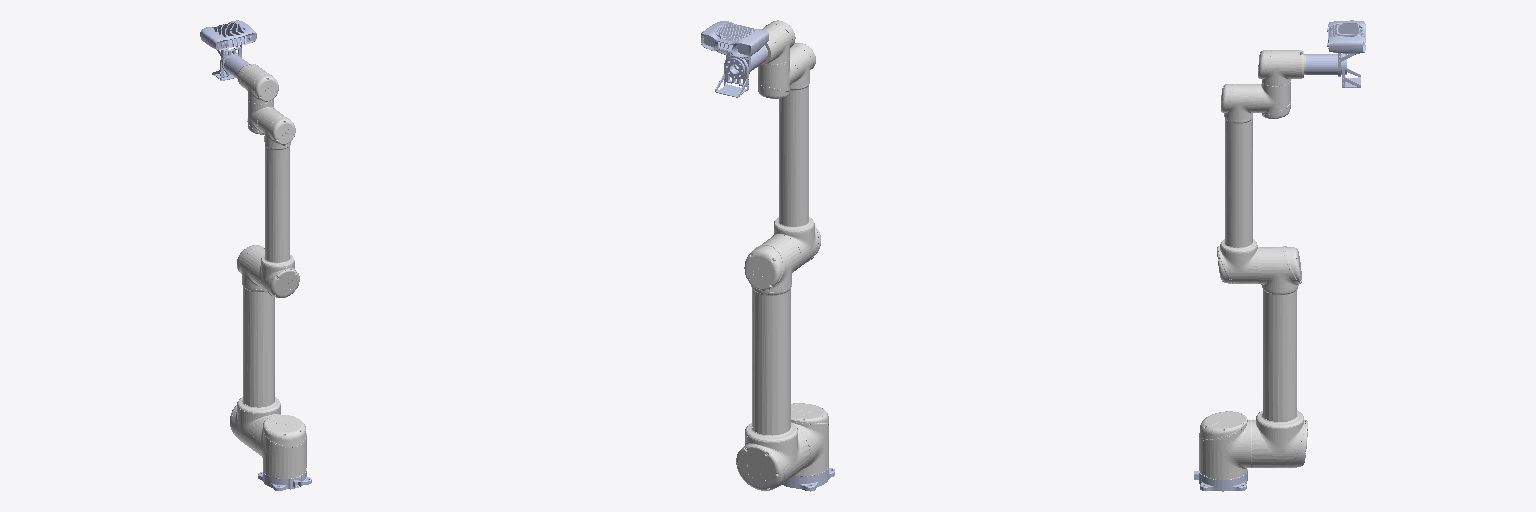
URDF robot description (combination):
<?xml version="1.0" encoding="utf-8"?>
<!-- This URDF was automatically created by SolidWorks to URDF Exporter! Originally created by [author] ([email redacted]) 
     Commit Version: 1.6.0-1-g15f4949  Build Version: 1.6.7594.29634
     For more information, please see http://wiki.ros.org/sw_urdf_exporter -->
<robot name="combination">
  <gazebo>
    <plugin name="gazebo_ros_control" filename="libgazebo_ros_control.so">
      <robotNamespace>/combination</robotNamespace>
    </plugin>
  </gazebo>
  <link name="world">
  </link>
  <link name="base_link">
    <inertial>
      <origin
        xyz="7.37931935394108E-06 -0.000475142478554004 0.018439017892027"
        rpy="0 0 0" />
      <mass
        value="0.709215089186384" />
      <inertia
        ixx="0.00115586778389477"
        ixy="4.76210921883884E-08"
        ixz="7.97269592535512E-08"
        iyy="0.00114634212515932"
        iyz="2.07271572898755E-07"
        izz="0.00212931958576209" />
    </inertial>
    <visual>
      <origin
        xyz="0 0 0"
        rpy="0 0 0" />
      <geometry>
        <mesh
          filename="package://combination/meshes/base_link.STL" />
      </geometry>
      <material
        name="">
        <color
          rgba="0.792156862745098 0.819607843137255 0.933333333333333 1" />
      </material>
    </visual>
    <collision>
      <origin
        xyz="0 0 0"
        rpy="0 0 0" />
      <geometry>
        <mesh
          filename="package://combination/meshes/base_link.STL" />
      </geometry>
    </collision>
  </link>
  <joint name="world_base_joint" type="fixed">
    <parent link="world"/>
    <child link="base_link"/>
    </joint>
  <link
    name="joint_1">
    <inertial>
      <origin
        xyz="7.67305519609881E-06 0.0116177835329399 -0.0114454182654446"
        rpy="0 0 0" />
      <mass
        value="3.07721535328458" />
      <inertia
        ixx="0.01075086496246"
        ixy="-1.32535236034976E-06"
        ixz="-4.83433003182714E-08"
        iyy="0.0100374841136376"
        iyz="-0.00104422148169352"
        izz="0.0100847609730903" />
    </inertial>
    <visual>
      <origin
        xyz="0 0 0"
        rpy="0 0 0" />
      <geometry>
        <mesh
          filename="package://combination/meshes/joint_1.STL" />
      </geometry>
      <material
        name="">
        <color
          rgba="0.882352941176471 0.882352941176471 0.882352941176471 1" />
      </material>
    </visual>
    <collision>
      <origin
        xyz="0 0 0"
        rpy="0 0 0" />
      <geometry>
        <mesh
          filename="package://combination/meshes/joint_1.STL" />
      </geometry>
    </collision>
  </link>
  <joint
    name="joint_1"
    type="revolute">
    <origin
      xyz="0 0 0.128"
      rpy="0 0 0" />
    <parent
      link="base_link" />
    <child
      link="joint_1" />
    <axis
      xyz="0 0 1" />
    <limit effort="330.0" lower="-6.2831853" upper="6.2831853" velocity="2.16"/>
  </joint>
  <link
    name="joint_2">
    <inertial>
      <origin
        xyz="8.39495534339188E-05 0.250745974283906 0.00563372269131107"
        rpy="0 0 0" />
      <mass
        value="8.71681022341746" />
      <inertia
        ixx="0.0952626099900606"
        ixy="4.23627566007177E-07"
        ixz="-3.08766556581469E-07"
        iyy="0.0187317746215777"
        iyz="0.000754738812287678"
        izz="0.0948533789000811" />
    </inertial>
    <visual>
      <origin
        xyz="0 0 0"
        rpy="0 0 0" />
      <geometry>
        <mesh
          filename="package://combination/meshes/joint_2.STL" />
      </geometry>
      <material
        name="">
        <color
          rgba="0.882352941176471 0.882352941176471 0.882352941176471 1" />
      </material>
    </visual>
    <collision>
      <origin
        xyz="0 0 0"
        rpy="0 0 0" />
      <geometry>
        <mesh
          filename="package://combination/meshes/joint_2.STL" />
      </geometry>
    </collision>
  </link>
  <joint
    name="joint_2"
    type="revolute">
    <origin
      xyz="0 0.176 0"
      rpy="1.5708 0 0" />
    <parent
      link="joint_1" />
    <child
      link="joint_2" />
    <axis
      xyz="0 0 1" />
    <limit effort="330.0" lower="-6.2831853" upper="6.2831853" velocity="2.16"/>
  </joint>
  <link
    name="joint_3">
    <inertial>
      <origin
        xyz="-2.3154E-06 0.25687 -0.0032009"
        rpy="0 0 0" />
      <mass
        value="4.6569" />
      <inertia
        ixx="0.051345"
        ixy="7.8014E-07"
        ixz="1.6536E-07"
        iyy="0.0056147"
        iyz="-0.00016819"
        izz="0.051404" />
    </inertial>
    <visual>
      <origin
        xyz="0 0 0"
        rpy="0 0 0" />
      <geometry>
        <mesh
          filename="package://combination/meshes/joint_3.STL" />
      </geometry>
      <material
        name="">
        <color
          rgba="0.88235 0.88235 0.88235 1" />
      </material>
    </visual>
    <collision>
      <origin
        xyz="0 0 0"
        rpy="0 0 0" />
      <geometry>
        <mesh
          filename="package://combination/meshes/joint_3.STL" />
      </geometry>
    </collision>
  </link>
  <joint
    name="joint_3"
    type="revolute">
    <origin
      xyz="0 0.6127 0.12781"
      rpy="0 0 0" />
    <parent
      link="joint_2" />
    <child
      link="joint_3" />
    <axis
      xyz="0 0 1" />
    <limit effort="150.0" lower="-6.2831853" upper="6.2831853" velocity="3.15"/>
  </joint>
  <link
    name="joint_4">
    <inertial>
      <origin
        xyz="6.95080302738576E-06 0.00967015845632946 0.00760235560710798"
        rpy="0 0 0" />
      <mass
        value="0.729547644259479" />
      <inertia
        ixx="0.000987732226145021"
        ixy="-9.35585559460883E-08"
        ixz="-1.03665487001708E-07"
        iyy="0.000878007312535541"
        iyz="0.000120233649873037"
        izz="0.000910673350926584" />
    </inertial>
    <visual>
      <origin
        xyz="0 0 0"
        rpy="0 0 0" />
      <geometry>
        <mesh
          filename="package://combination/meshes/joint_4.STL" />
      </geometry>
      <material
        name="">
        <color
          rgba="0.882352941176471 0.882352941176471 0.882352941176471 1" />
      </material>
    </visual>
    <collision>
      <origin
        xyz="0 0 0"
        rpy="0 0 0" />
      <geometry>
        <mesh
          filename="package://combination/meshes/joint_4.STL" />
      </geometry>
    </collision>
  </link>
  <joint
    name="joint_4"
    type="revolute">
    <origin
      xyz="0 0.5716 -0.1157"
      rpy="0 0 0" />
    <parent
      link="joint_3" />
    <child
      link="joint_4" />
    <axis
      xyz="0 0 1" />
    <limit effort="54.0" lower="-6.2831853" upper="6.2831853" velocity="3.2"/>
  </joint>
  <link
    name="joint_5">
    <inertial>
      <origin
        xyz="-6.9891E-06 -0.0096701 0.0076024"
        rpy="0 0 0" />
      <mass
        value="0.72955" />
      <inertia
        ixx="0.00098773"
        ixy="-9.2864E-08"
        ixz="1.0433E-07"
        iyy="0.00087801"
        iyz="-0.00012023"
        izz="0.00091067" />
    </inertial>
    <visual>
      <origin
        xyz="0 0 0"
        rpy="0 0 0" />
      <geometry>
        <mesh
          filename="package://combination/meshes/joint_5.STL" />
      </geometry>
      <material
        name="">
        <color
          rgba="0.88235 0.88235 0.88235 1" />
      </material>
    </visual>
    <collision>
      <origin
        xyz="0 0 0"
        rpy="0 0 0" />
      <geometry>
        <mesh
          filename="package://combination/meshes/joint_5.STL" />
      </geometry>
    </collision>
  </link>
  <joint
    name="joint_5"
    type="revolute">
    <origin
      xyz="0 0.1157 0"
      rpy="1.5708 0 0" />
    <parent
      link="joint_4" />
    <child
      link="joint_5" />
    <axis
      xyz="0 0 1" />
    <limit effort="54.0" lower="-6.2831853" upper="6.2831853" velocity="3.2"/>
  </joint>
  <link
    name="joint_6">
    <inertial>
      <origin
        xyz="-2.50786895781548E-09 0.000920634085022742 -0.0174599361518346"
        rpy="0 0 0" />
      <mass
        value="0.159510512804558" />
      <inertia
        ixx="8.16448253828859E-05"
        ixy="-2.2350874971327E-11"
        ixz="2.59504018597685E-12"
        iyy="8.7757429927931E-05"
        iyz="-4.96385228263279E-07"
        izz="0.000149368424591008" />
    </inertial>
    <visual>
      <origin
        xyz="0 0 0"
        rpy="0 0 0" />
      <geometry>
        <mesh
          filename="package://combination/meshes/joint_6.STL" />
      </geometry>
      <material
        name="">
        <color
          rgba="0.882352941176471 0.882352941176471 0.882352941176471 1" />
      </material>
    </visual>
    <collision>
      <origin
        xyz="0 0 0"
        rpy="0 0 0" />
      <geometry>
        <mesh
          filename="package://combination/meshes/joint_6.STL" />
      </geometry>
    </collision>
  </link>
  <joint
    name="joint_6"
    type="revolute">
    <origin
      xyz="0 -0.0922 0"
      rpy="1.5708 0 0" />
    <parent
      link="joint_5" />
    <child
      link="joint_6" />
    <axis
      xyz="0 0 1" />
    <limit effort="54.0" lower="-6.2831853" upper="6.2831853" velocity="3.2"/>
  </joint>
  <link
    name="extender">
    <inertial>
      <origin
        xyz="-1.0185E-14 0 0.0018925"
        rpy="0 0 0" />
      <mass
        value="0.23217" />
      <inertia
        ixx="0.00027546"
        ixy="-5.8937E-20"
        ixz="-1.1738E-19"
        iyy="0.00027546"
        iyz="2.993E-20"
        izz="0.00015802" />
    </inertial>
    <visual>
      <origin
        xyz="0 0 0"
        rpy="0 0 0" />
      <geometry>
        <mesh
          filename="package://combination/meshes/extender.STL" />
      </geometry>
      <material
        name="">
        <color
          rgba="0.79216 0.81961 0.93333 1" />
      </material>
    </visual>
    <collision>
      <origin
        xyz="0 0 0"
        rpy="0 0 0" />
      <geometry>
        <mesh
          filename="package://combination/meshes/extender.STL" />
      </geometry>
    </collision>
  </link>
  <joint
    name="extender"
    type="fixed">
    <origin
      xyz="0 0 0.05"
      rpy="0 0 0" />
    <parent
      link="joint_6" />
    <child
      link="extender" />
    <axis
      xyz="0 0 0" />
  </joint>
  <link
    name="on_arm">
    <inertial>
      <origin
        xyz="-9.91769365447983E-08 -0.0164847106043391 0.0115183959979581"
        rpy="0 0 0" />
      <mass
        value="0.0595589251648015" />
      <inertia
        ixx="5.91989458400223E-05"
        ixy="-3.18357470825513E-10"
        ixz="3.5522541104858E-10"
        iyy="4.21262712900486E-05"
        iyz="8.15497210377909E-06"
        izz="8.38357822158999E-05" />
    </inertial>
    <visual>
      <origin
        xyz="0 0 0"
        rpy="0 0 0" />
      <geometry>
        <mesh
          filename="package://combination/meshes/on_arm.STL" />
      </geometry>
      <material
        name="">
        <color
          rgba="0.792156862745098 0.819607843137255 0.933333333333333 1" />
      </material>
    </visual>
    <collision>
      <origin
        xyz="0 0 0"
        rpy="0 0 0" />
      <geometry>
        <mesh
          filename="package://combination/meshes/on_arm.STL" />
      </geometry>
    </collision>
  </link>
  <joint
    name="on_arm"
    type="fixed">
    <origin
      xyz="0 0 0.0499999749999999"
      rpy="0 0 0" />
    <parent
      link="extender" />
    <child
      link="on_arm" />
    <axis
      xyz="0 0 0" />
  </joint>
  <link
    name="3d_camera">
    <inertial>
      <origin
        xyz="5.79338477567104E-06 -0.00160695396590849 -0.0547213296937247"
        rpy="0 0 0" />
      <mass
        value="0.822162334011094" />
      <inertia
        ixx="0.000887813109505989"
        ixy="-3.32926099241923E-09"
        ixz="2.76966187694885E-07"
        iyy="0.00243228488779323"
        iyz="-9.11899623513406E-06"
        izz="0.00186691525202536" />
    </inertial>
    <visual>
      <origin
        xyz="0 0 0"
        rpy="0 0 0" />
      <geometry>
        <mesh
          filename="package://combination/meshes/3d_camera.STL" />
      </geometry>
      <material
        name="">
        <color
          rgba="0.792156862745098 0.819607843137255 0.933333333333333 1" />
      </material>
    </visual>
    <collision>
      <origin
        xyz="0 0 0"
        rpy="0 0 0" />
      <geometry>
        <mesh
          filename="package://combination/meshes/3d_camera.STL" />
      </geometry>
    </collision>
  </link>
  <joint
    name="3d_camera"
    type="fixed">
    <origin
      xyz="0 -0.0906652250169711 0.0820082443646569"
      rpy="0 0 0" />
    <parent
      link="on_arm" />
    <child
      link="3d_camera" />
    <axis
      xyz="0 0 0" />
  </joint>
  <link
    name="on_arm2d_camera">
    <inertial>
      <origin
        xyz="2.6363E-06 0.022925 0.014277"
        rpy="0 0 0" />
      <mass
        value="0.071334" />
      <inertia
        ixx="4.643E-05"
        ixy="-1.9242E-10"
        ixz="-4.329E-10"
        iyy="4.5064E-05"
        iyz="-3.0312E-06"
        izz="7.2451E-05" />
    </inertial>
    <visual>
      <origin
        xyz="0 0 0"
        rpy="0 0 0" />
      <geometry>
        <mesh
          filename="package://combination/meshes/on_arm2d_camera.STL" />
      </geometry>
      <material
        name="">
        <color
          rgba="0.79216 0.81961 0.93333 1" />
      </material>
    </visual>
    <collision>
      <origin
        xyz="0 0 0"
        rpy="0 0 0" />
      <geometry>
        <mesh
          filename="package://combination/meshes/on_arm2d_camera.STL" />
      </geometry>
    </collision>
  </link>
  <joint
    name="on_arm2d_camera"
    type="fixed">
    <origin
      xyz="0 0 0.0123327954154533"
      rpy="0 0 0" />
    <parent
      link="on_arm" />
    <child
      link="on_arm2d_camera" />
    <axis
      xyz="0 0 0" />
  </joint>
  <link
    name="2d_camera">
    <inertial>
      <origin
        xyz="-0.00076525 0.00056356 -0.15063"
        rpy="0 0 0" />
      <mass
        value="0.28828" />
      <inertia
        ixx="0.00018187"
        ixy="3.0125E-06"
        ixz="-5.5483E-06"
        iyy="0.00018677"
        iyz="6.2097E-06"
        izz="0.00023938" />
    </inertial>
    <visual>
      <origin
        xyz="0 0 0"
        rpy="0 0 0" />
      <geometry>
        <mesh
          filename="package://combination/meshes/2d_camera.STL" />
      </geometry>
      <material
        name="">
        <color
          rgba="0.79216 0.81961 0.93333 1" />
      </material>
    </visual>
    <collision>
      <origin
        xyz="0 0 0"
        rpy="0 0 0" />
      <geometry>
        <mesh
          filename="package://combination/meshes/2d_camera.STL" />
      </geometry>
    </collision>
  </link>
  <joint
    name="2d_camera"
    type="fixed">
    <origin
      xyz="6.82819157894723E-05 0.102000176822406 0.189288678806898"
      rpy="0 0 0" />
    <parent
      link="on_arm2d_camera" />
    <child
      link="2d_camera" />
    <axis
      xyz="0 0 0" />
  </joint>
  <transmission name="joint_1_trans">
    <type>transmission_interface/SimpleTransmission</type>
    <joint name="joint_1">
      <hardwareInterface>hardware_interface/EffortJointInterface</hardwareInterface>
    </joint>
    <actuator name="joint_1_motor">
      <hardwareInterface>hardware_interface/EffortJointInterface</hardwareInterface>
      <mechanicalReduction>1</mechanicalReduction>
    </actuator>
  </transmission>
  <transmission name="joint_2_trans">
    <type>transmission_interface/SimpleTransmission</type>
    <joint name="joint_2">
      <hardwareInterface>hardware_interface/EffortJointInterface</hardwareInterface>
    </joint>
    <actuator name="joint_2_motor">
      <hardwareInterface>hardware_interface/EffortJointInterface</hardwareInterface>
      <mechanicalReduction>1</mechanicalReduction>
    </actuator>
  </transmission>
  <transmission name="joint_3_trans">
    <type>transmission_interface/SimpleTransmission</type>
    <joint name="joint_3">
      <hardwareInterface>hardware_interface/EffortJointInterface</hardwareInterface>
    </joint>
    <actuator name="joint_3_motor">
      <hardwareInterface>hardware_interface/EffortJointInterface</hardwareInterface>
      <mechanicalReduction>1</mechanicalReduction>
    </actuator>
  </transmission>
  <transmission name="joint_4_trans">
    <type>transmission_interface/SimpleTransmission</type>
    <joint name="joint_4">
      <hardwareInterface>hardware_interface/EffortJointInterface</hardwareInterface>
    </joint>
    <actuator name="joint_4_motor">
      <hardwareInterface>hardware_interface/EffortJointInterface</hardwareInterface>
      <mechanicalReduction>1</mechanicalReduction>
    </actuator>
  </transmission>
  <transmission name="joint_5_trans">
    <type>transmission_interface/SimpleTransmission</type>
    <joint name="joint_5">
      <hardwareInterface>hardware_interface/EffortJointInterface</hardwareInterface>
    </joint>
    <actuator name="joint_5_motor">
      <hardwareInterface>hardware_interface/EffortJointInterface</hardwareInterface>
      <mechanicalReduction>1</mechanicalReduction>
    </actuator>
  </transmission>
  <transmission name="joint_6_trans">
    <type>transmission_interface/SimpleTransmission</type>
    <joint name="joint_6">
      <hardwareInterface>hardware_interface/EffortJointInterface</hardwareInterface>
    </joint>
    <actuator name="joint_6_motor">
      <hardwareInterface>hardware_interface/EffortJointInterface</hardwareInterface>
      <mechanicalReduction>1</mechanicalReduction>
    </actuator>
  </transmission>
  <!-- <gazebo reference="world">
    <material>Gazebo/Blue</material>
  </gazebo>
  <gazebo reference="base_link">
    <material>Gazebo/Blue</material>
    <turnGravityOff>true</turnGravityOff>
  </gazebo>
  <gazebo reference="joint_1">
    <material>Gazebo/Blue</material>
    <turnGravityOff>true</turnGravityOff>
  </gazebo>
  <gazebo reference="joint_2">
    <material>Gazebo/Blue</material>
    <turnGravityOff>true</turnGravityOff>
  </gazebo>
  <gazebo reference="joint_3">
    <material>Gazebo/Blue</material>
    <turnGravityOff>true</turnGravityOff>
  </gazebo>
  <gazebo reference="joint_4">
    <material>Gazebo/Blue</material>
    <turnGravityOff>true</turnGravityOff>
  </gazebo>
  <gazebo reference="joint_5">
    <material>Gazebo/Blue</material>
    <turnGravityOff>true</turnGravityOff>
  </gazebo>
  <gazebo reference="joint_6">
    <material>Gazebo/Blue</material>
    <turnGravityOff>true</turnGravityOff>
  </gazebo>
  <gazebo reference="extender">
    <material>Gazebo/Red</material>
    <turnGravityOff>true</turnGravityOff>
  </gazebo>
  <gazebo reference="on_arm">
    <material>Gazebo/Red</material>
    <turnGravityOff>true</turnGravityOff>
  </gazebo>
  <gazebo reference="3d_camera">
    <material>Gazebo/Red</material>
    <turnGravityOff>true</turnGravityOff>
  </gazebo>
  <gazebo reference="on_arm2d_camera">
    <material>Gazebo/Red</material>
    <turnGravityOff>true</turnGravityOff>
  </gazebo>
  <gazebo reference="2d_camera">
    <material>Gazebo/Red</material>
    <turnGravityOff>true</turnGravityOff>
  </gazebo> -->
</robot>

--- What the picture shows (computed from the rendered views, not written in the file) ---
Views: 3 orthographic renders of the robot side by side, from view 1: azimuth 30°, elevation 25°; view 2: azimuth 150°, elevation 25°; view 3: azimuth 270°, elevation 25°.
Robot: combination — 13 links, 12 joints (6 revolute, 6 fixed); root link world; default pose: all joints at 0.
Links seen in each view (by area): view 1: joint_2, joint_3, joint_1, 3d_camera, joint_5, base_link; view 2: joint_2, joint_3, joint_1, 3d_camera, joint_4, on_arm2d_camera, joint_5, base_link; view 3: joint_2, joint_3, joint_1, joint_5, 3d_camera, joint_4, extender, base_link.
Link boxes in pixels (x1,y1,x2,y2): joint_2: [230, 245, 280, 452]; joint_3: [254, 108, 299, 297]; joint_1: [253, 415, 306, 478]; 3d_camera: [200, 20, 256, 49]; joint_5: [240, 65, 278, 103]; base_link: [258, 471, 311, 490]; joint_2: [736, 235, 809, 490]; joint_3: [772, 43, 820, 267]; joint_1: [791, 403, 828, 476]; 3d_camera: [701, 21, 768, 57]; joint_4: [758, 58, 796, 98]; on_arm2d_camera: [715, 55, 748, 97]; joint_5: [762, 20, 795, 63]; base_link: [782, 468, 834, 491]; joint_2: [1251, 246, 1307, 467]; joint_3: [1217, 84, 1258, 283]; joint_1: [1199, 411, 1250, 479]; joint_5: [1258, 50, 1295, 85]; 3d_camera: [1327, 20, 1365, 53]; joint_4: [1259, 81, 1290, 118]; extender: [1306, 54, 1337, 74]; base_link: [1194, 471, 1247, 491].
Size in the robot's own frame: 0.169 by 0.5354 by 1.55 metres.
Meshes: 12 distinct files referenced, 11 mesh visuals loaded (11 binary STL); not drawn: 1 (reference not matched to a file when rendering).